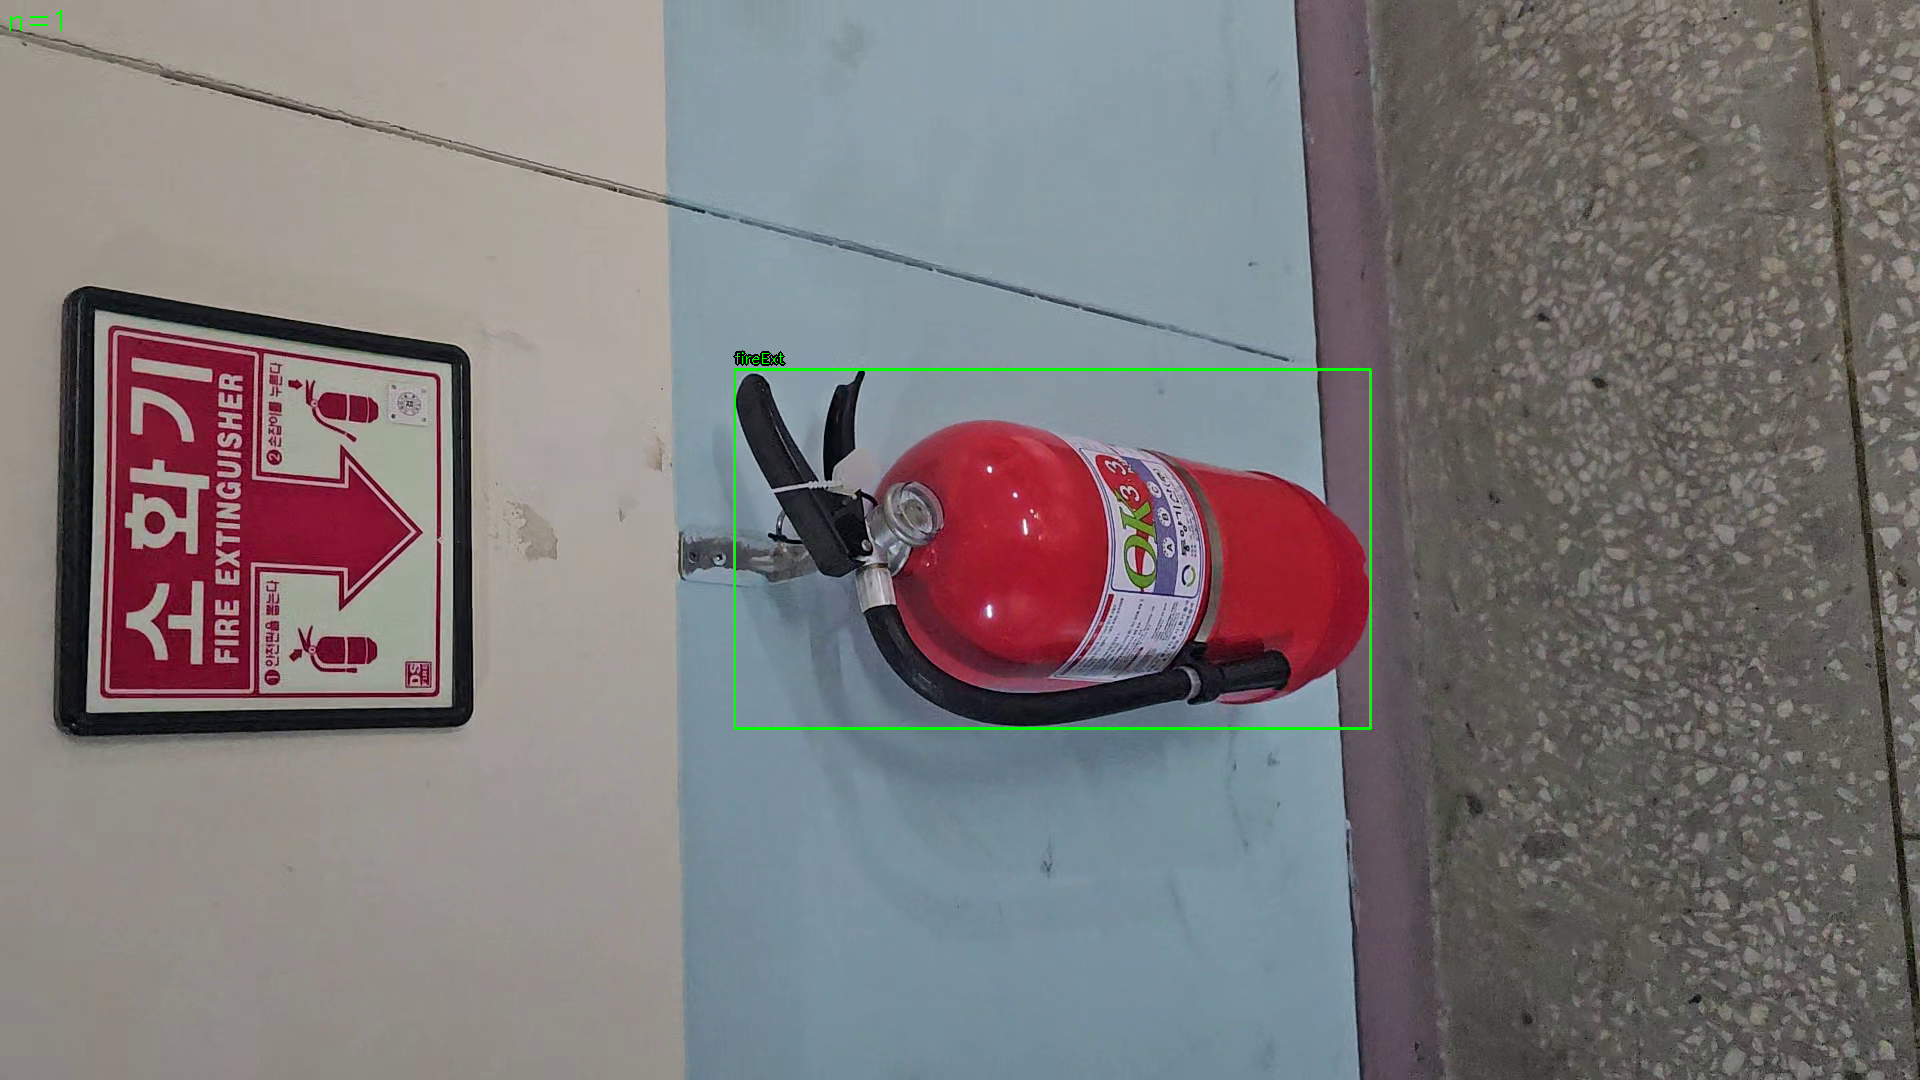lane: (735, 369, 1371, 729)
